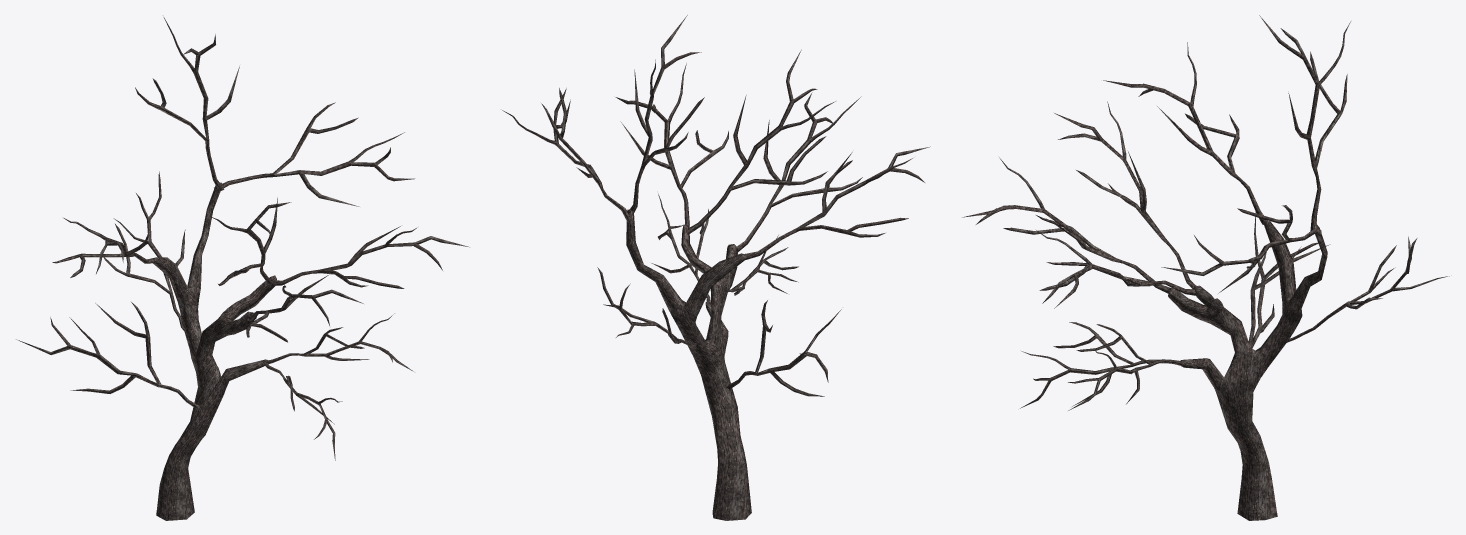
Rendered from lowst.fbx.
3 renders of one model, left to right at view 1: azimuth 30°, elevation 25°; view 2: azimuth 150°, elevation 25°; view 3: azimuth 270°, elevation 25°, orthographic. The views are drawn at different scales.
Visible parts, largest first — view 1: lowst_Mesh_001; view 2: lowst_Mesh_001; view 3: lowst_Mesh_001.
Part boxes in pixels (box(x1,y1,x2,y2)): lowst_Mesh_001: box(16, 17, 469, 520); lowst_Mesh_001: box(502, 15, 930, 520); lowst_Mesh_001: box(962, 15, 1449, 520).
Size of the model in its own units: 875 by 1057 by 904.
